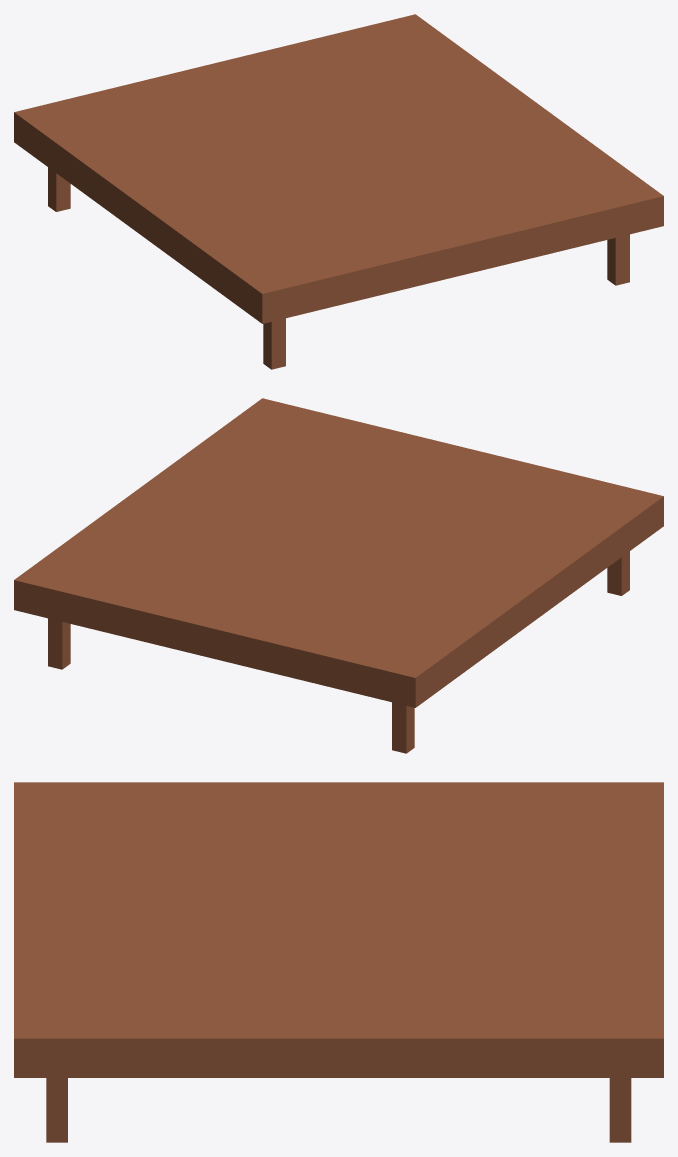
File: Taula Menjador.fbx
The picture shows the model from 3 angles, top to bottom: view 1: azimuth 30°, elevation 25°; view 2: azimuth 150°, elevation 25°; view 3: azimuth 270°, elevation 25°; orthographic projection. The views are drawn at different scales.
Visible parts, largest first — view 1: Cube.048; view 2: Cube.048; view 3: Cube.048.
Part boxes in pixels (bbox=[...]): Cube.048: bbox=[14, 14, 663, 369]; Cube.048: bbox=[14, 398, 663, 753]; Cube.048: bbox=[14, 782, 663, 1142].
Bounding box in the file's own units: 5.6 × 1.2 × 6.
